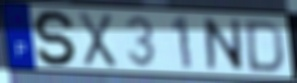1: (170, 15, 194, 72)
3: (121, 14, 158, 68)
D: (245, 18, 286, 75)
N: (202, 16, 245, 73)
S: (32, 9, 80, 68)
X: (77, 10, 119, 70)
